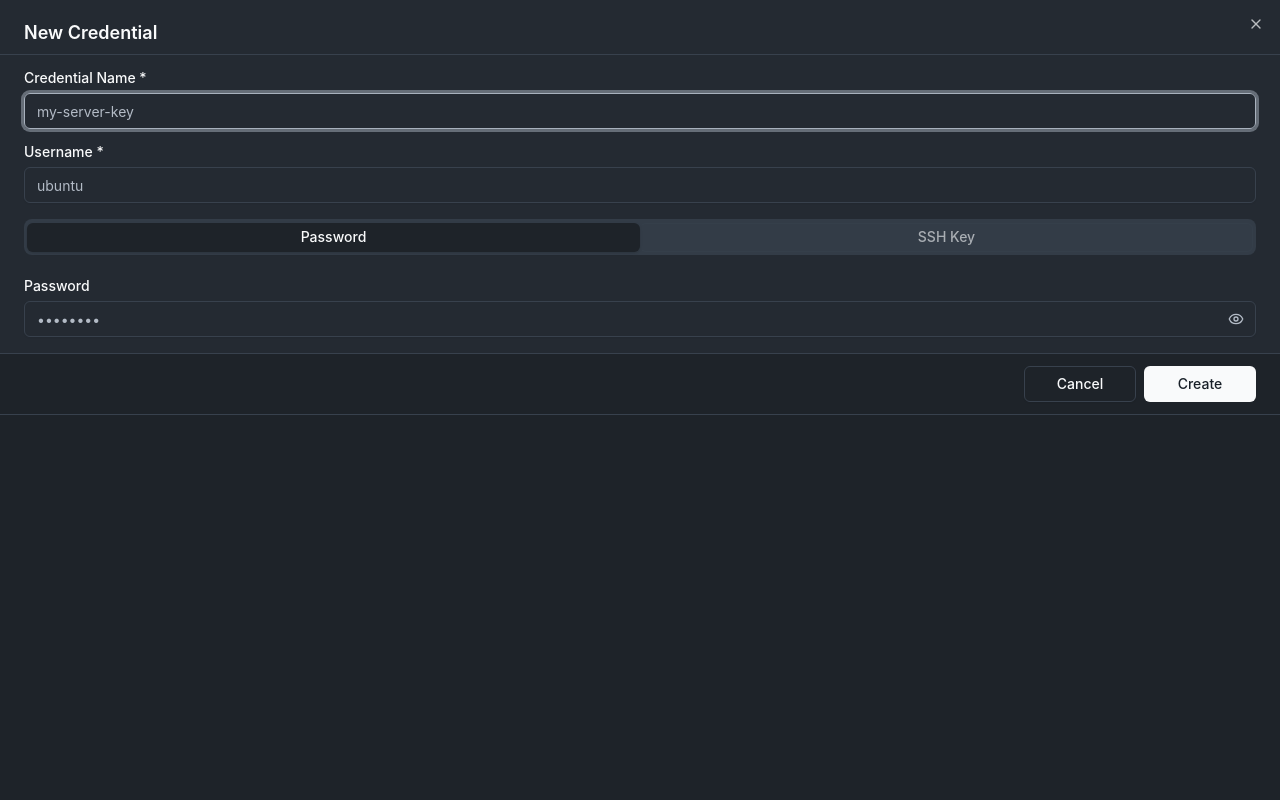
Test case: CredentialForm required-field inline errors › shows inline error when Private Key Path is empty for ssh_key type
In the field labelled "Credential Name *": (640, 111) x1=24 y1=93 x2=1256 y2=129, type "k"
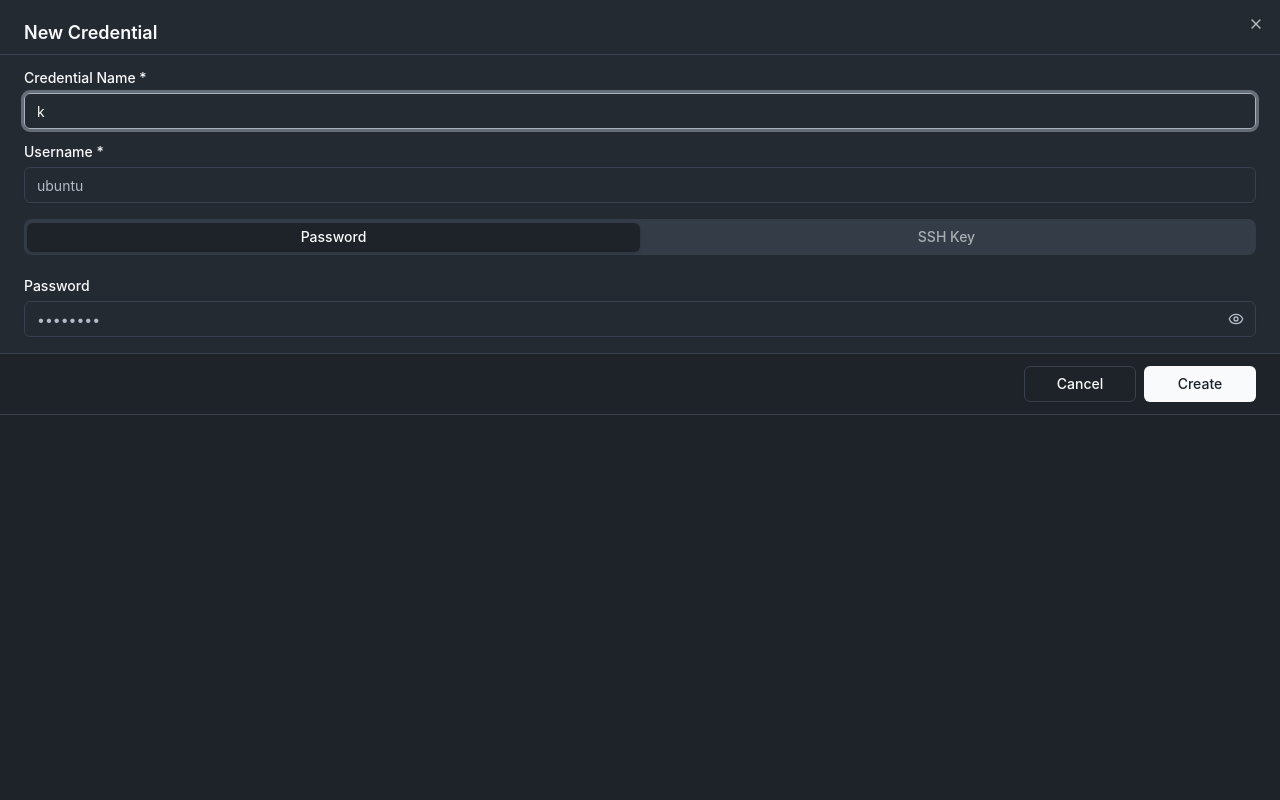
In the field labelled "Username *": (640, 185) x1=24 y1=167 x2=1256 y2=203, type "u"
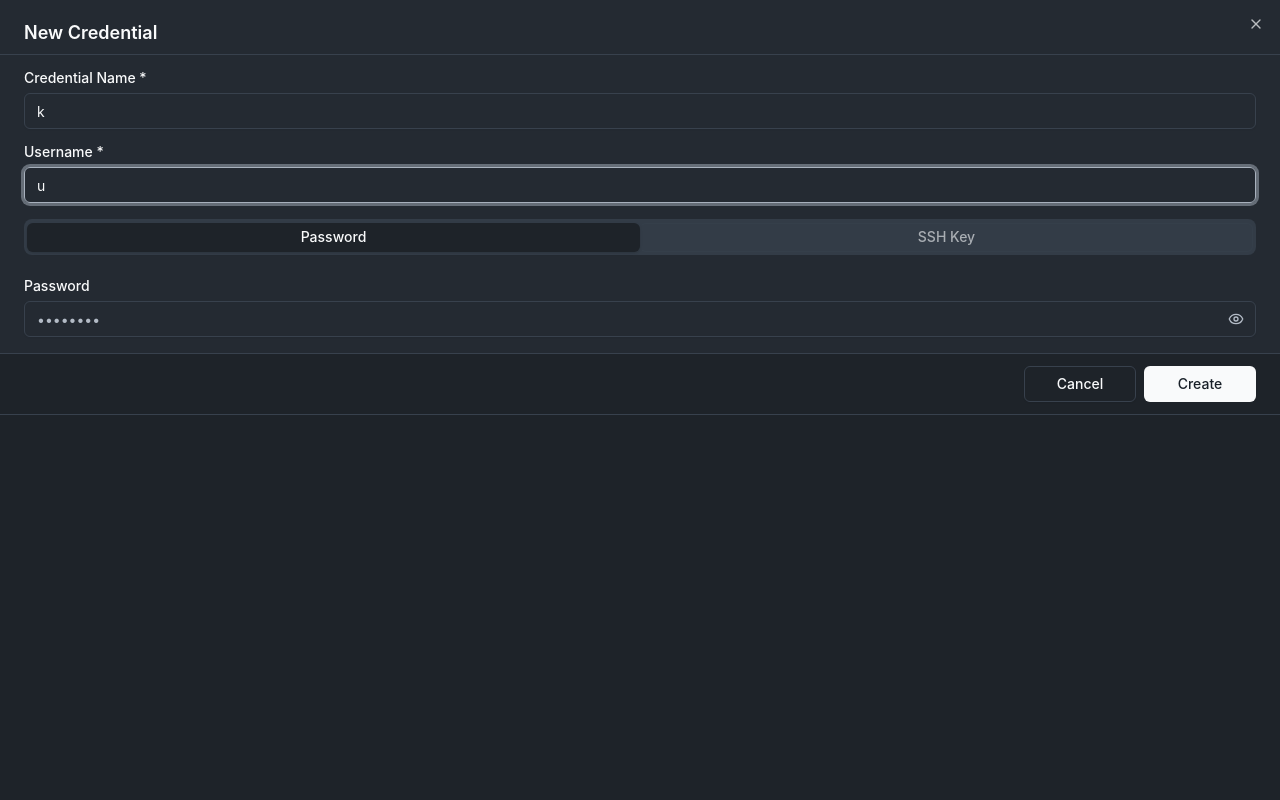
Click the tab "SSH Key": (946, 237) x1=640 y1=222 x2=1253 y2=252
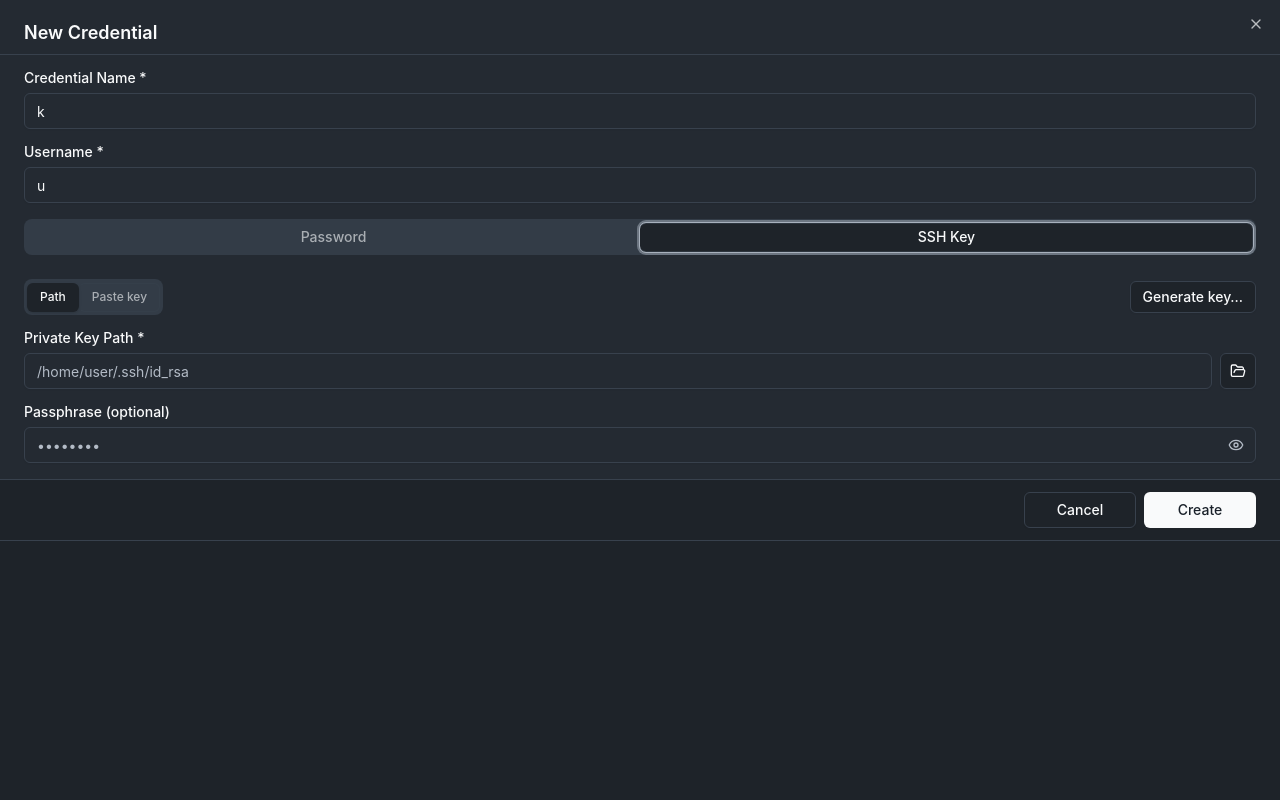
Submit the form
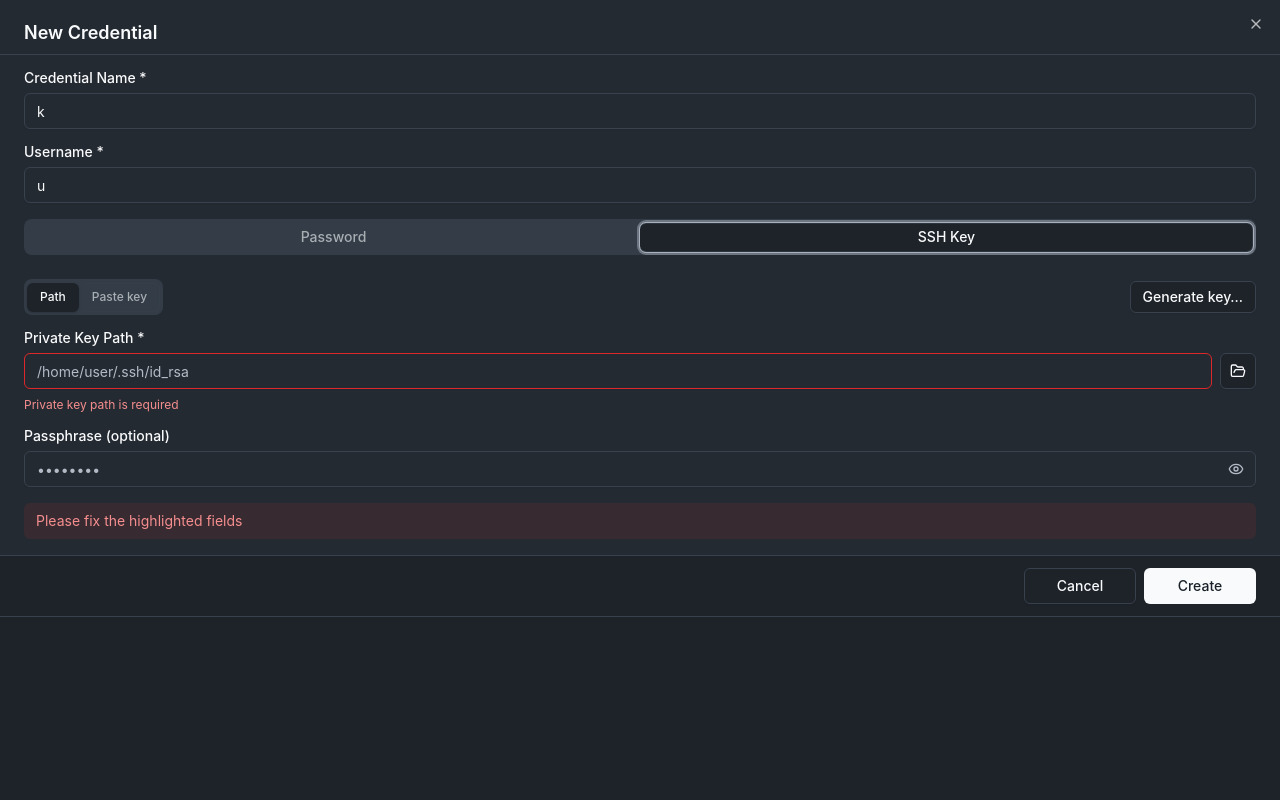
Expected: the text "Private key path is required" is shown, x1=24 y1=397 x2=178 y2=412
